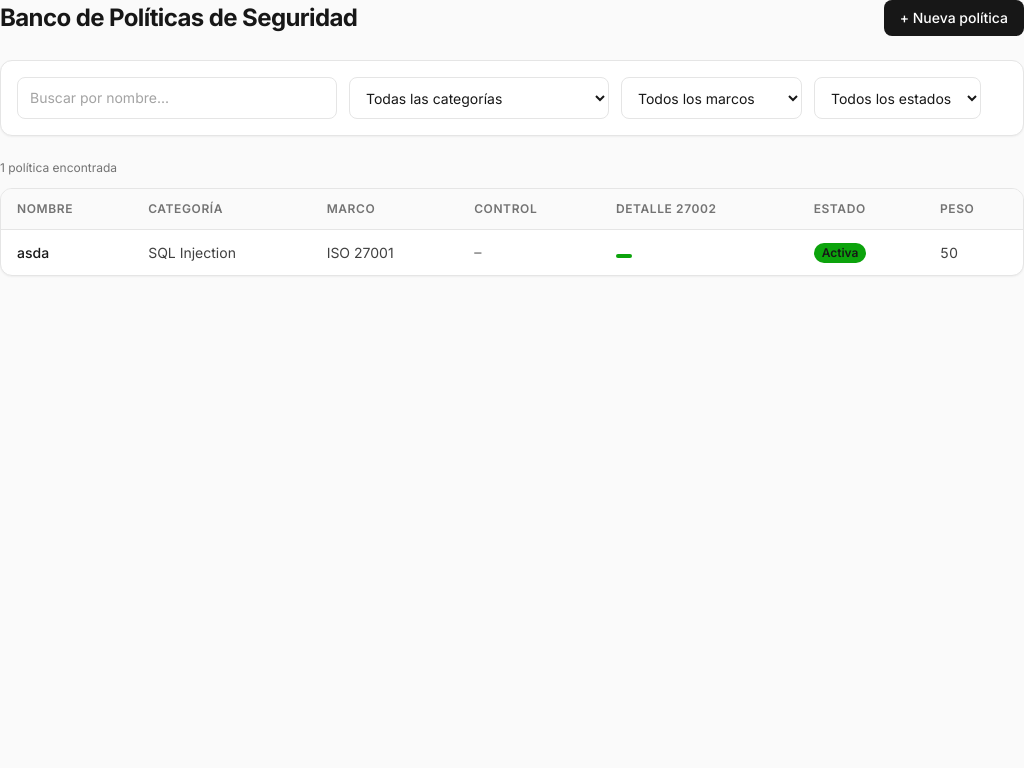
Test case: policy list reactivity after archiving from the detail page › the list no longer shows the policy as Activa after it was archived elsewhere, on remount
This screenshot has width=1024, height=768.
expect the message named "estado: activa" is shown: met, box [814, 243, 866, 263]
Note: Navigate into the policy (unmounts PolicyListPage).
Click the button "asda" at coordinates (33, 252), box [17, 242, 49, 262]
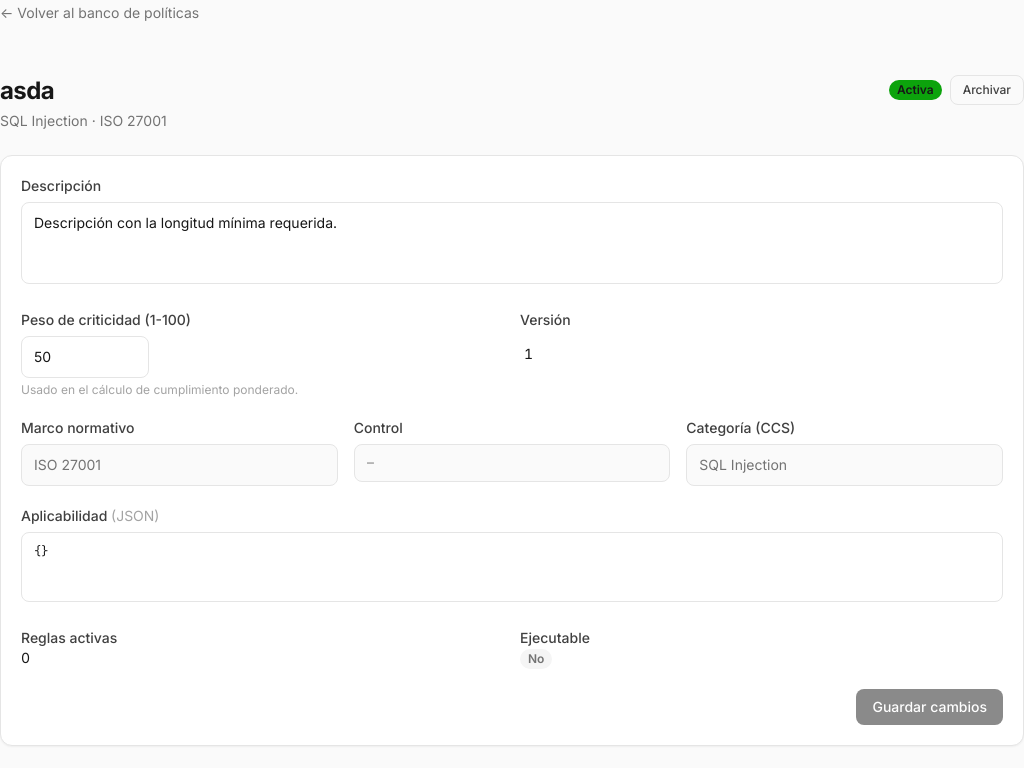
expect the link "← Volver al banco de políticas" is shown: met, box [0, 4, 199, 21]
expect the button "Archivar" is shown: met
Click the button "Archivar" at coordinates (987, 90), box [950, 75, 1023, 105]
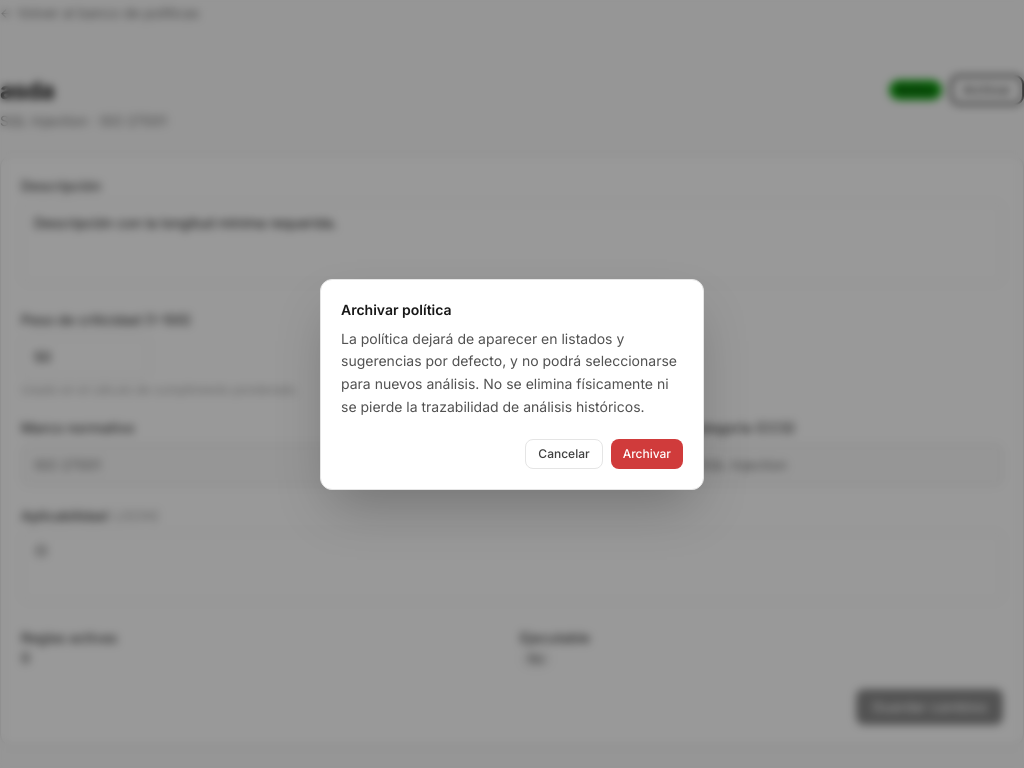
Click the button "Archivar" at coordinates (647, 454), box [611, 438, 683, 468]
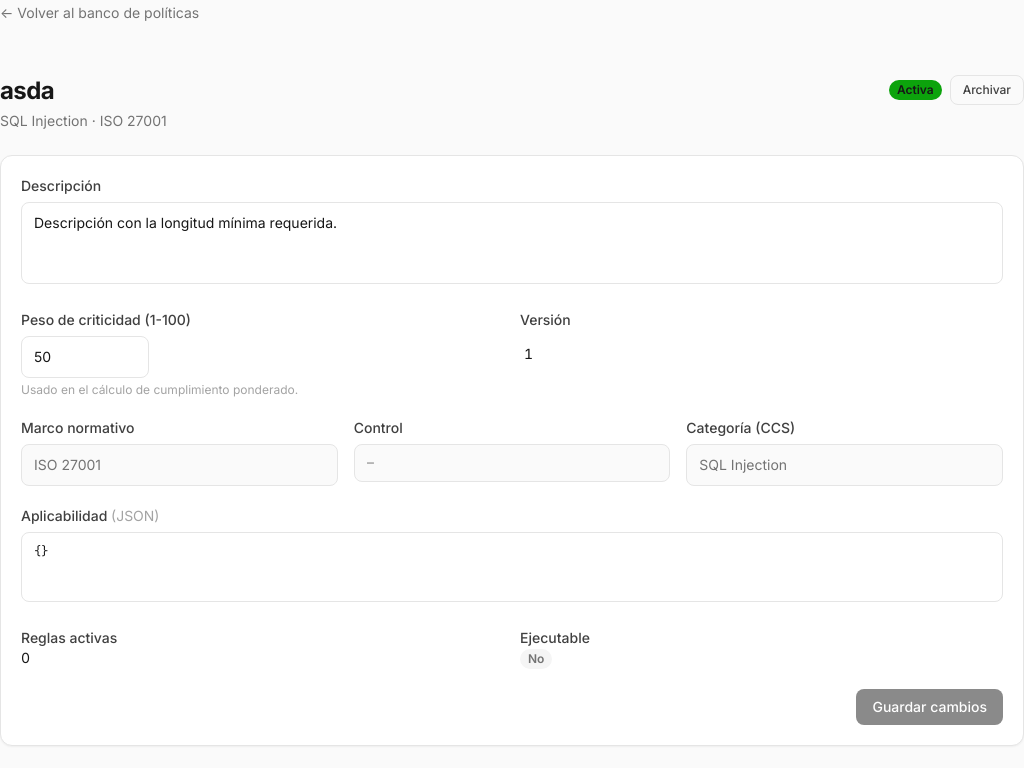
Click the link "← Volver al banco de políticas" at coordinates (100, 12), box [0, 4, 199, 21]
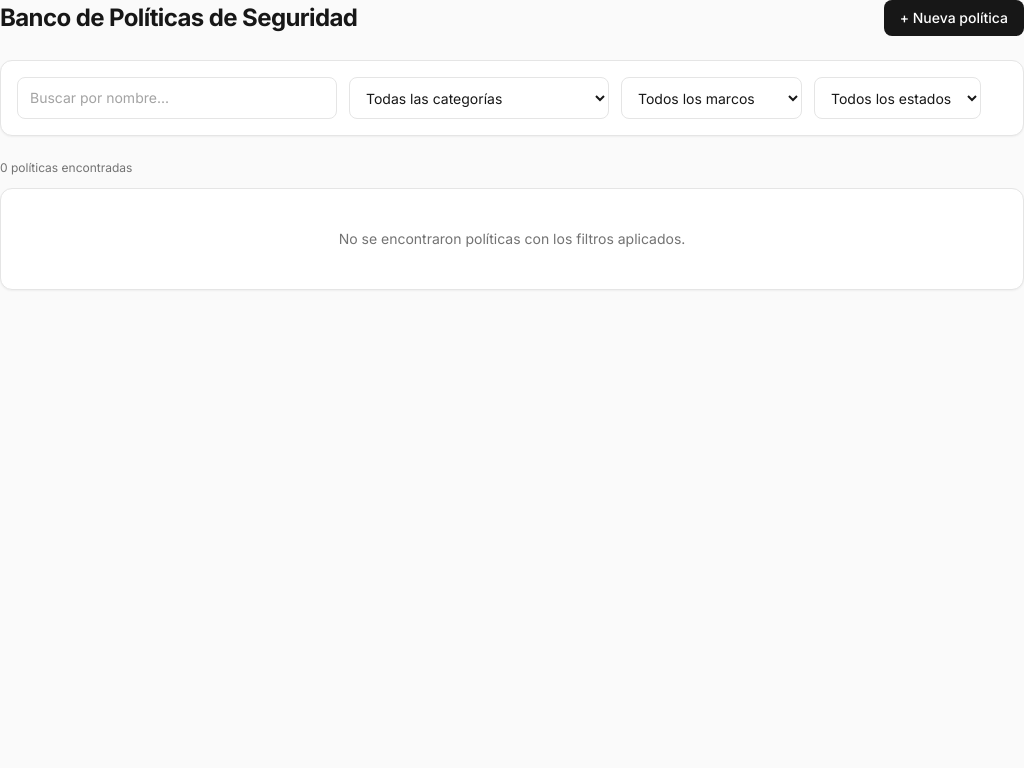
expect the heading "asda" is gone: met
